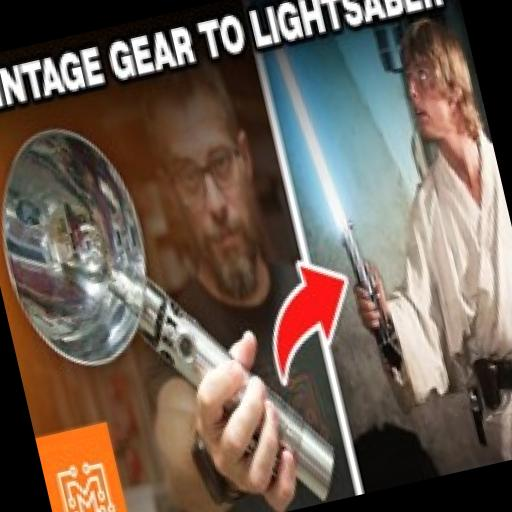human: (301, 12, 512, 485)
lightsaber: (78, 204, 349, 512), (271, 34, 403, 370)
